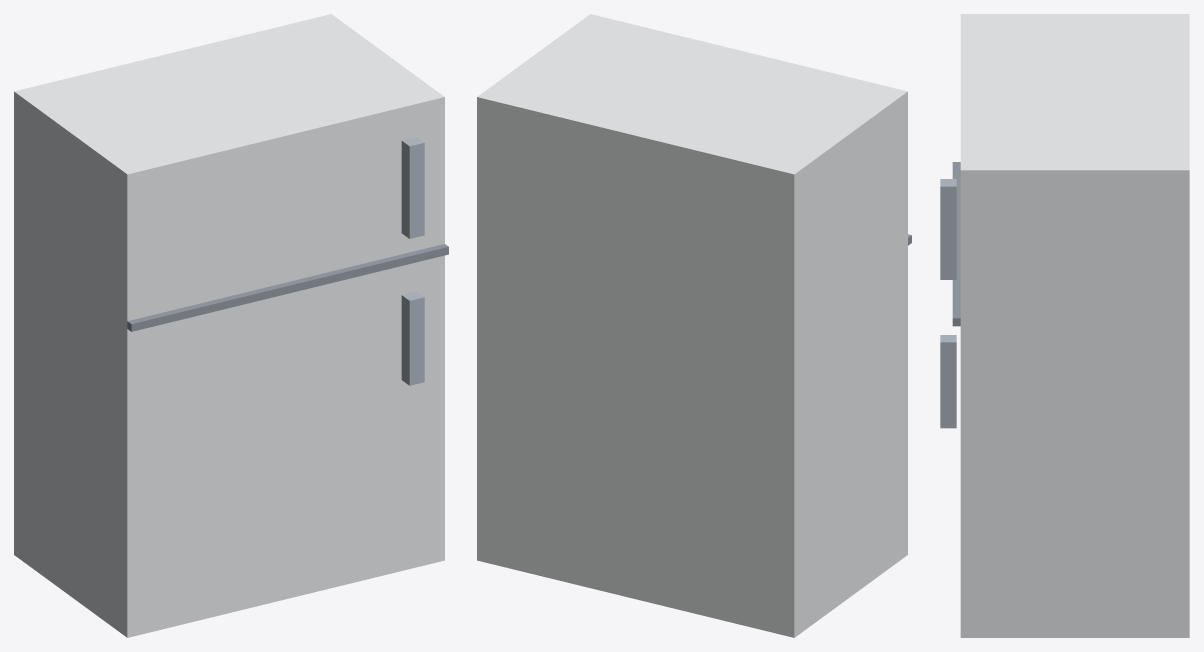
Rendered from kitchenFridgeSmall.glb.
3 renders of one model, left to right at view 1: azimuth 30°, elevation 25°; view 2: azimuth 150°, elevation 25°; view 3: azimuth 270°, elevation 25°, orthographic.
Parts seen in each view (by area): view 1: kitchenFridgeSmall; view 2: kitchenFridgeSmall; view 3: kitchenFridgeSmall.
Part boxes in pixels (x1,y1,x2,y2): kitchenFridgeSmall: (14,14,448,637); kitchenFridgeSmall: (477,14,911,637); kitchenFridgeSmall: (940,14,1189,637).
Bounding box in the file's own units: 0.43 × 0.6 × 0.29.
1 material, 1 textured.
